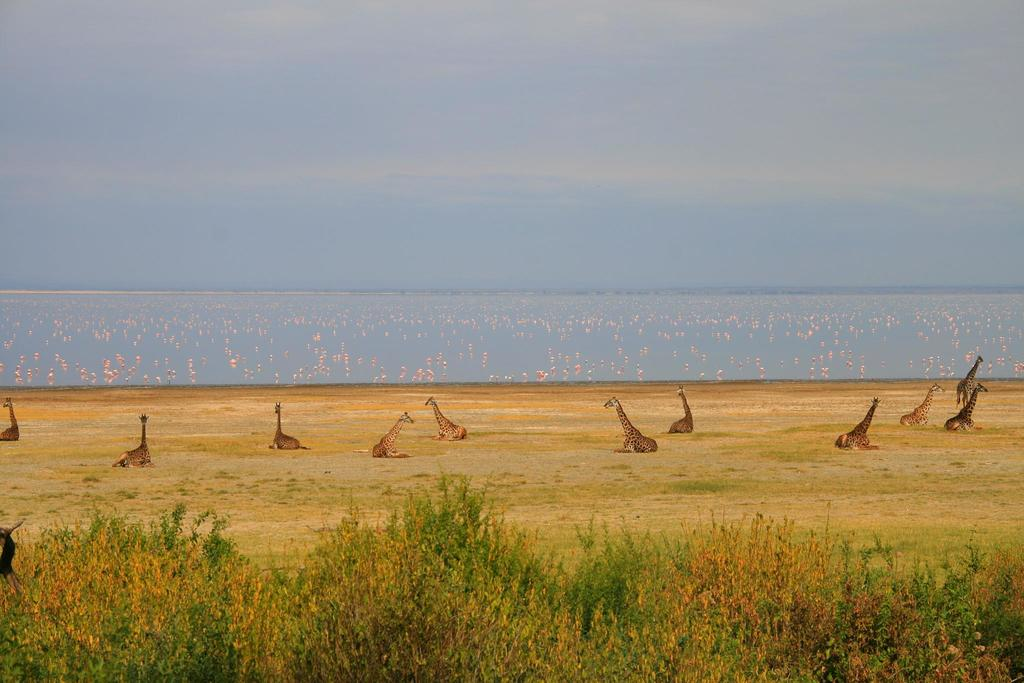Animal: (602, 395, 657, 450), (0, 518, 32, 612), (109, 411, 155, 468), (835, 395, 881, 450), (899, 380, 947, 428), (939, 382, 986, 429), (422, 394, 465, 443), (371, 411, 414, 458), (271, 398, 307, 450), (953, 355, 985, 407), (663, 385, 693, 434), (0, 395, 20, 442)
